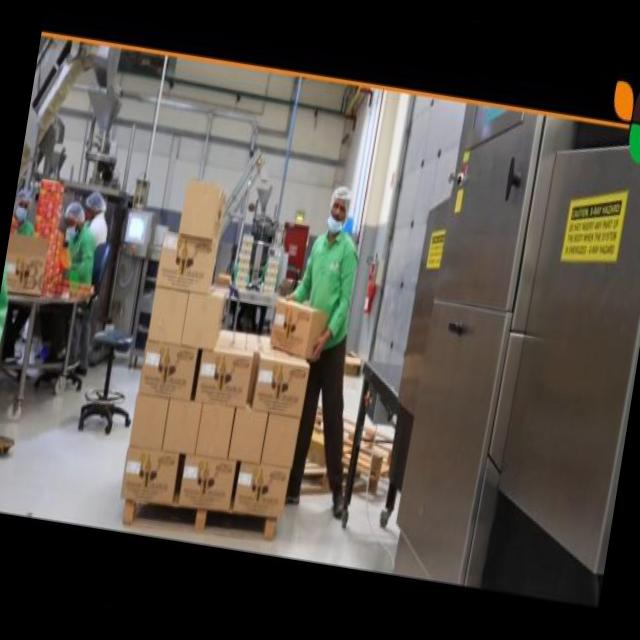hairnet: (331, 184, 354, 222), (84, 187, 110, 216), (63, 204, 87, 227), (16, 190, 34, 212)
